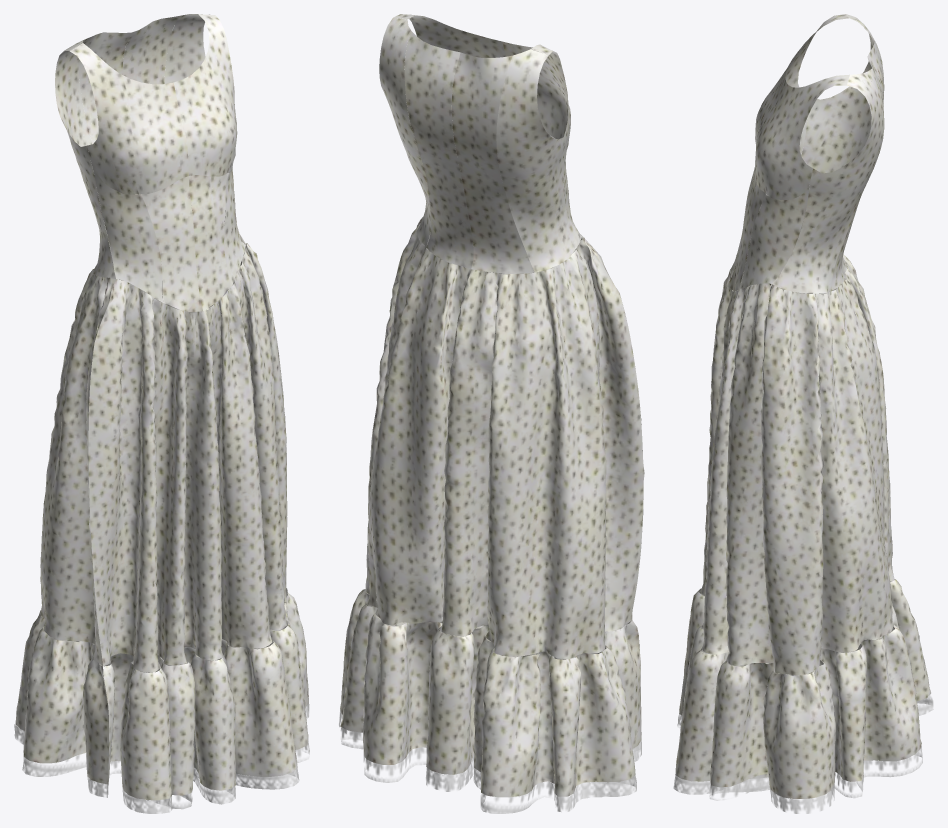
The picture shows the model from 3 angles, left to right: view 1: azimuth 30°, elevation 25°; view 2: azimuth 150°, elevation 25°; view 3: azimuth 270°, elevation 25°; orthographic projection. The views are drawn at different scales.
Parts seen in each view (by area): view 1: CB; view 2: CB; view 3: CB.
Boxes of the visible parts, x1,y1,x2,y2 form: CB: [14, 14, 309, 813]; CB: [339, 14, 644, 813]; CB: [673, 14, 933, 813].
Size of what is drawn, in the model's own units: 0.5556 by 1.36 by 0.4481.
Materials: 2 (2 with a texture image).
